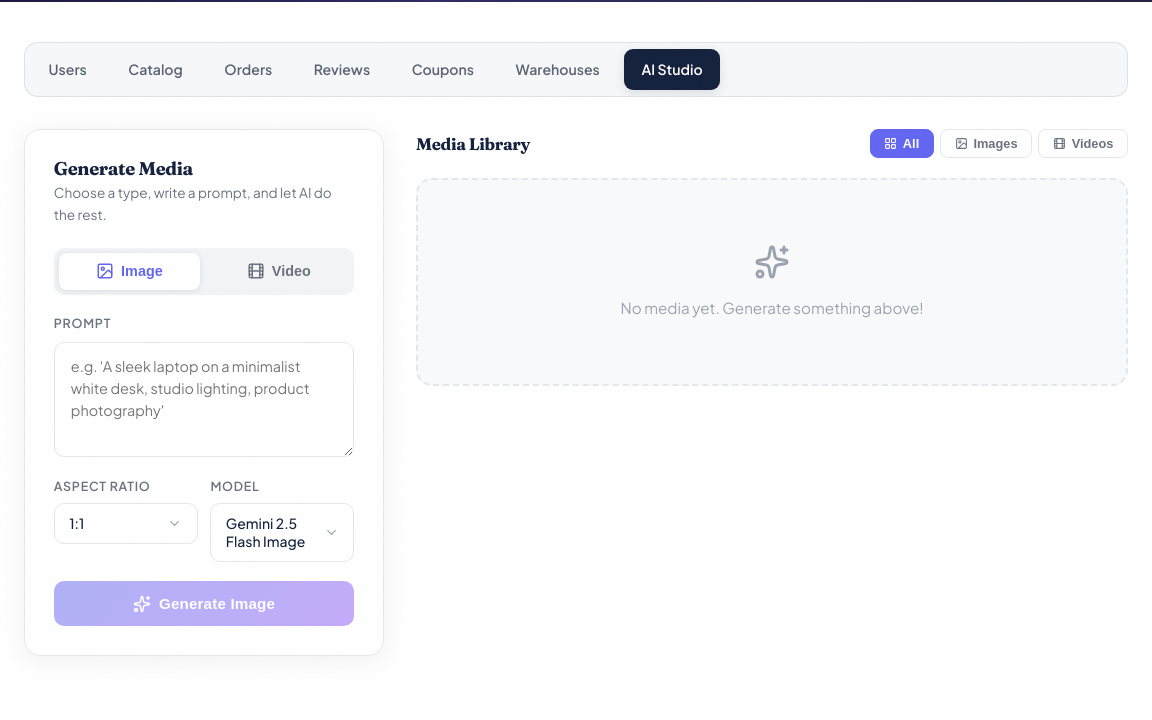
Test case: AdminAiStudioPage — dropdowns render › opens Model options on click
(page scrolled)
Expected: the text "Model" is shown, [210,478,259,494]
Click the button "Gemini 2.5 Flash Image" at (282, 532), box [210,503,354,562]
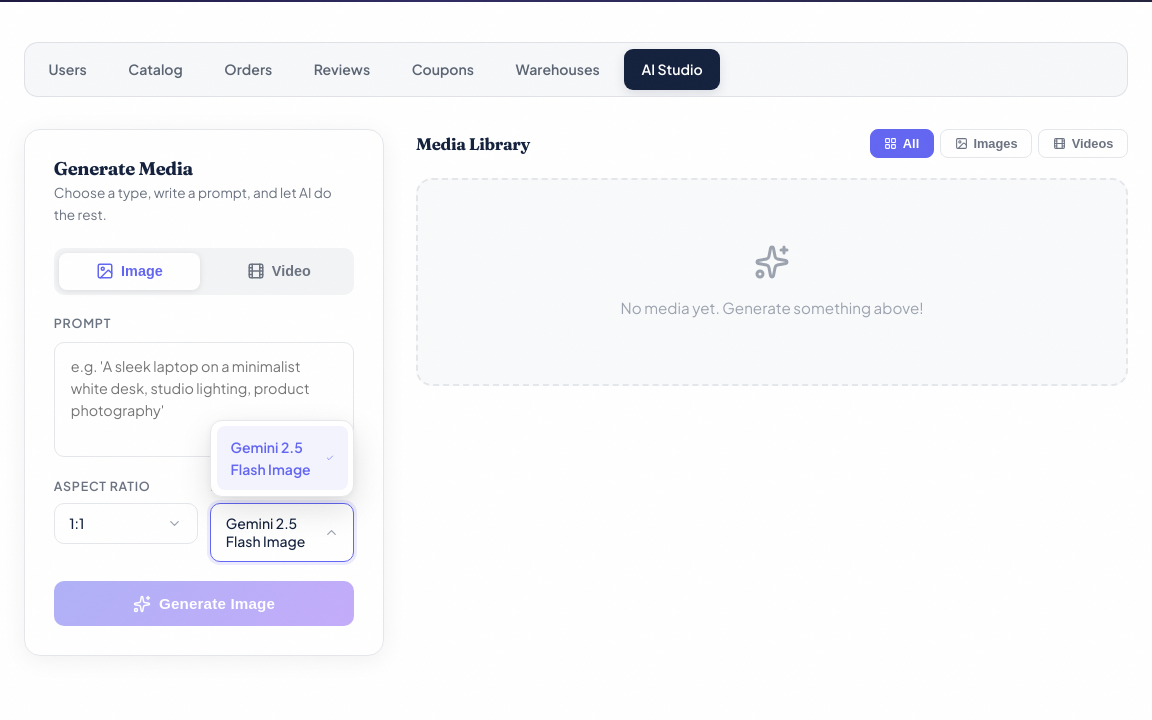
Now the list is shown, box [210,420,354,497]
